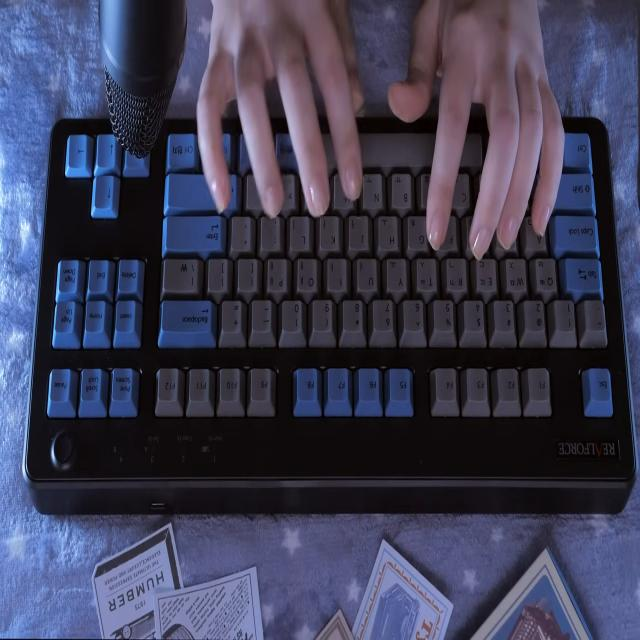keyboard-with-hands: (32, 123, 633, 470)
